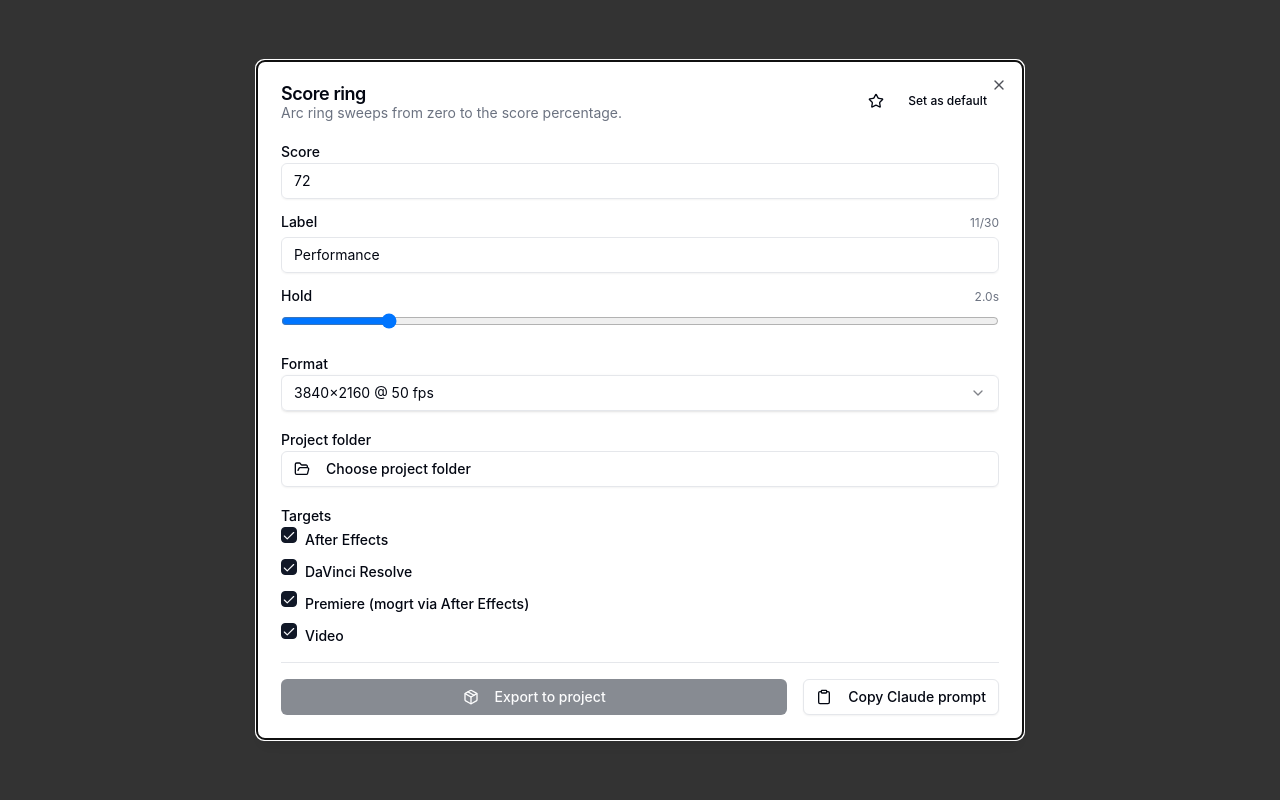
Scenario: MotionTemplateDialog › Format combobox › shows the format combobox with expected options
(page scrolled)
Step 1. Click the dropdown named "Format" → (364, 392), box 281,375 -> 999,411
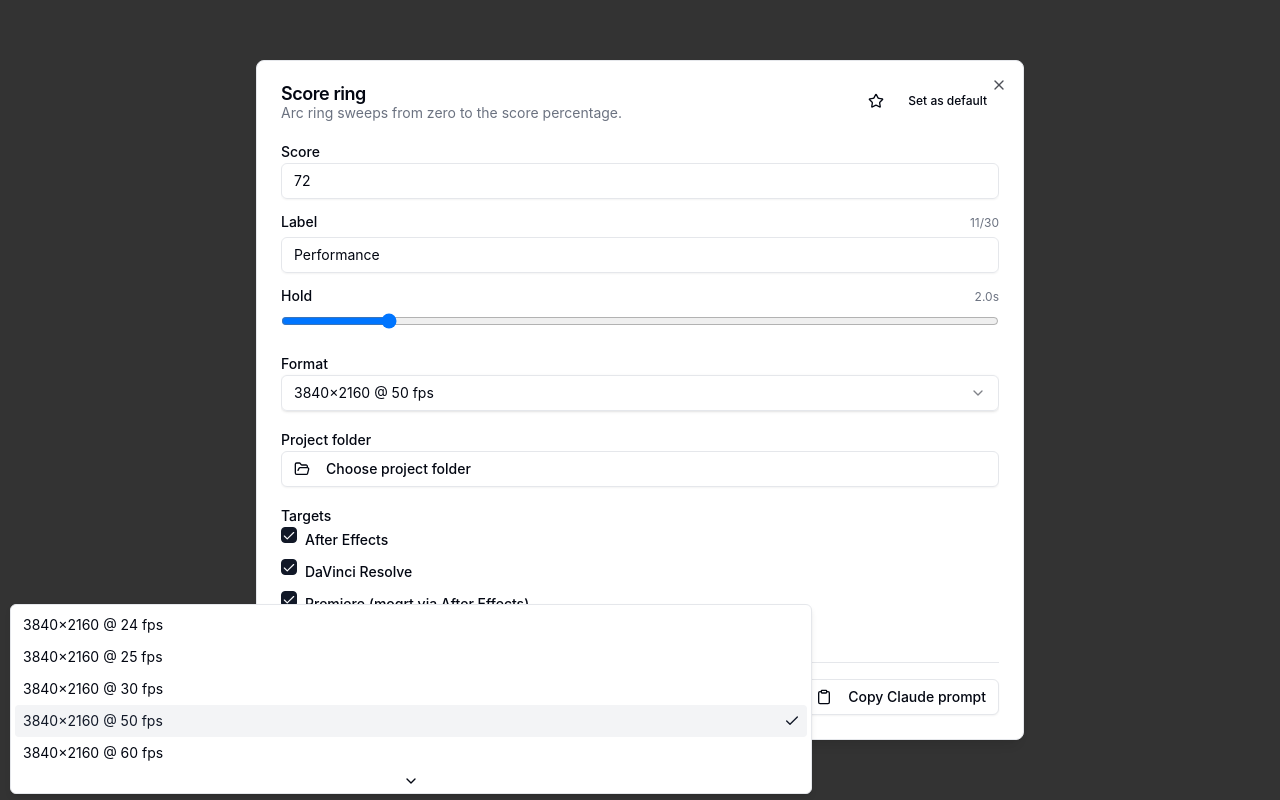
Check: the text "11/30" is shown, box 970,215 -> 999,231
Check: the text "3840×2160 @ 25 fps" is shown, box 23,647 -> 162,667
